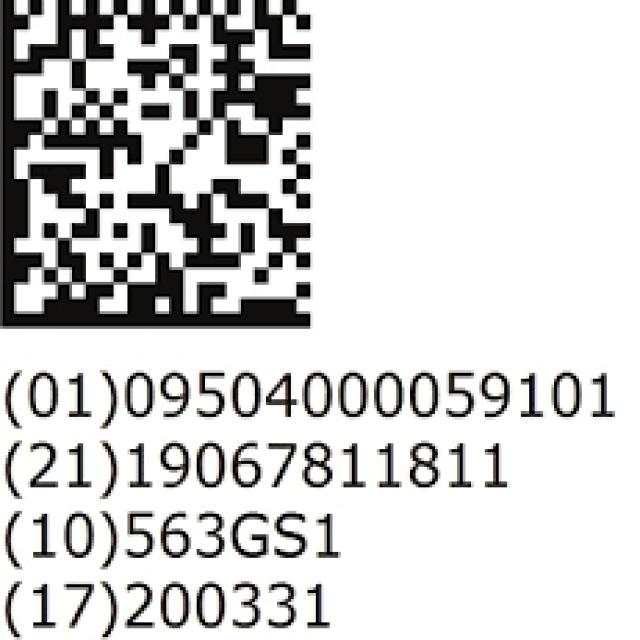datamatrix: (3, 3, 316, 332)
